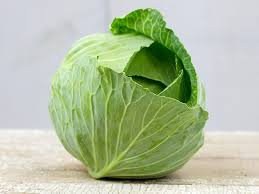cabbage: (48, 22, 212, 184)
